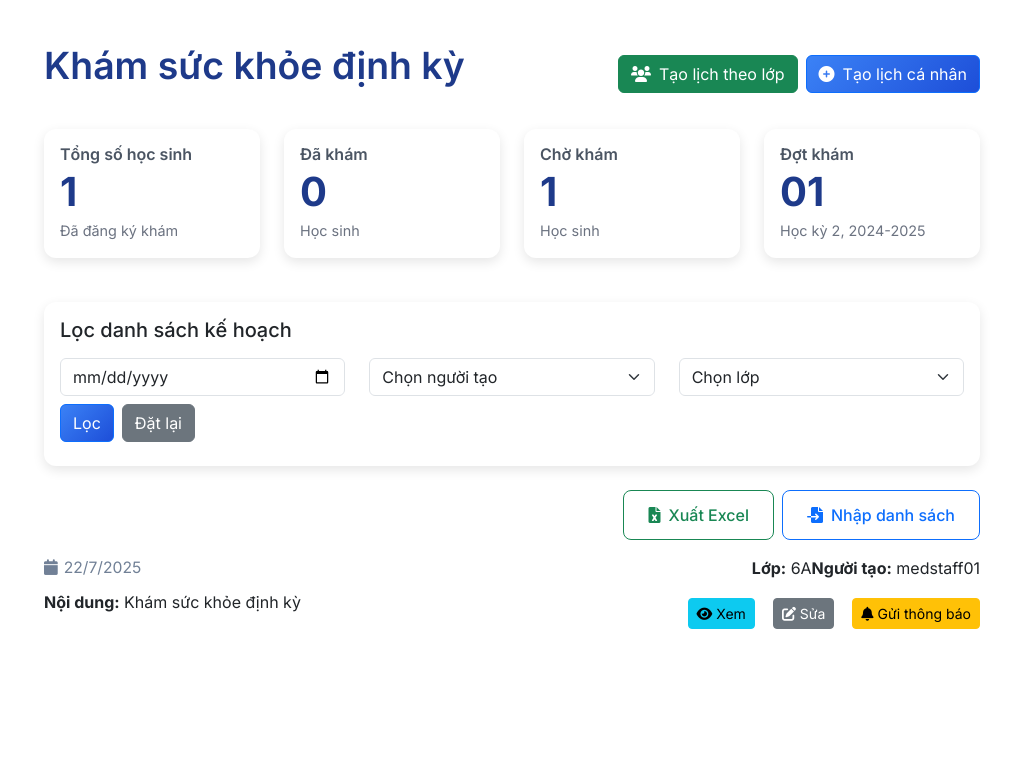
Test: HealthCheckManagement Main Flow › shows reason button for denied student
Click the button with test id "view-detail-btn-plan1": {"x": 721, "y": 613} x1=688 y1=598 x2=755 y2=629
(page scrolled)
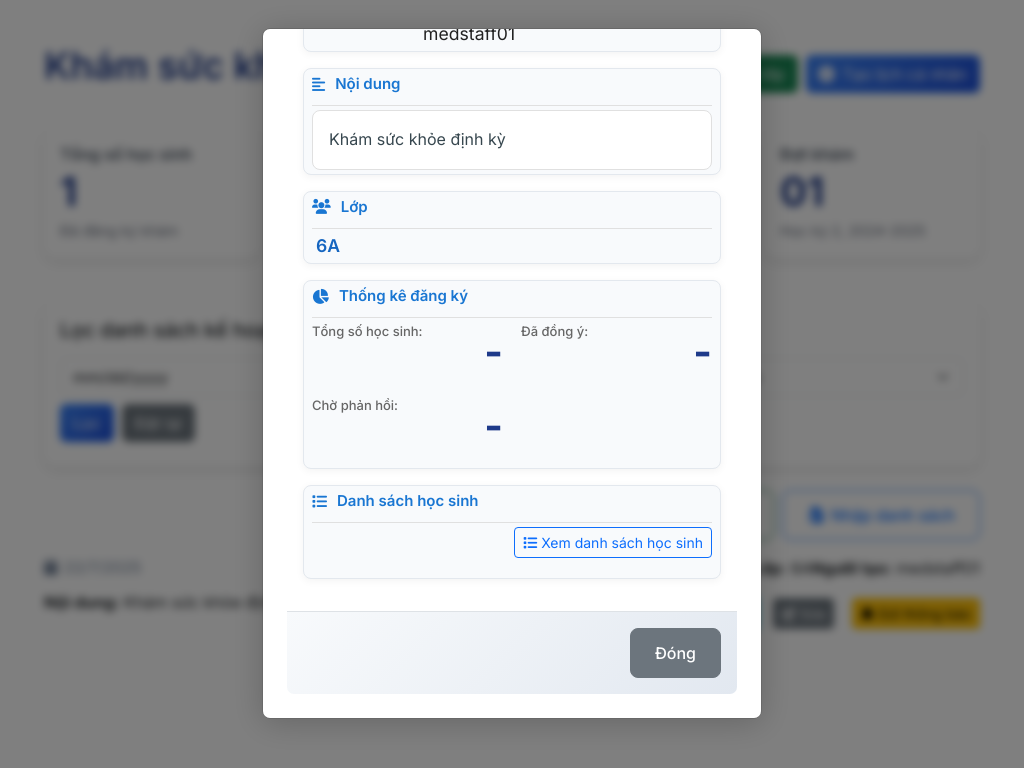
Click the button with test id "view-student-list-btn": {"x": 613, "y": 543} x1=514 y1=527 x2=712 y2=558
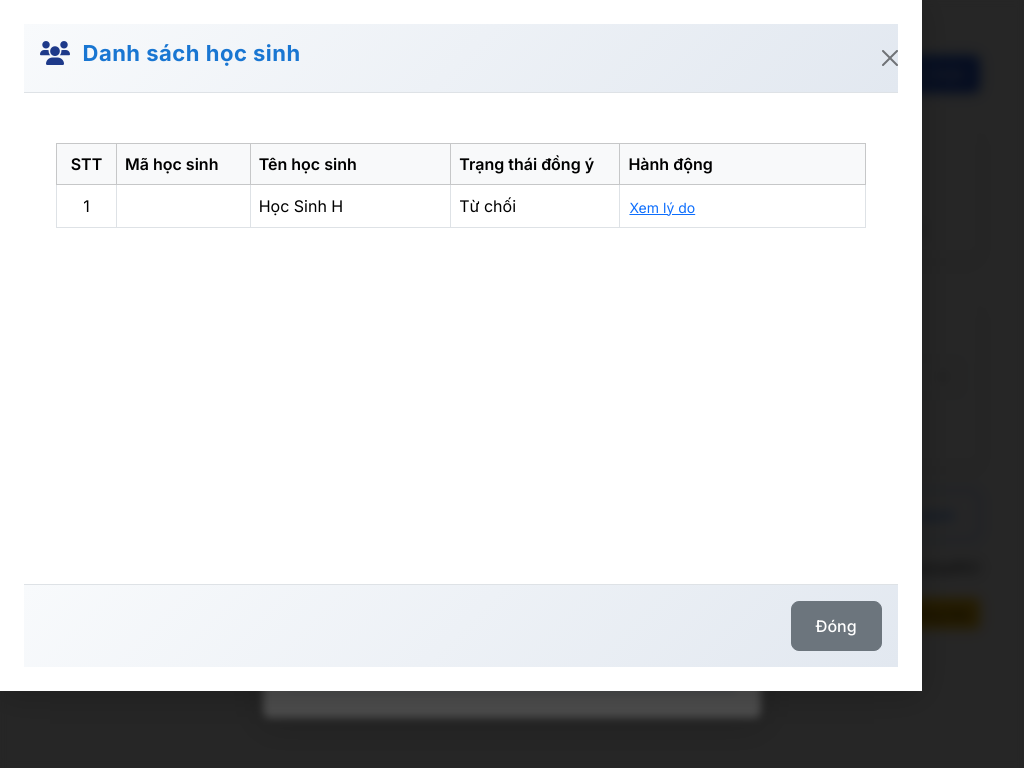
Expected: the button "Xem lý do" is shown, x1=628 y1=196 x2=696 y2=218
